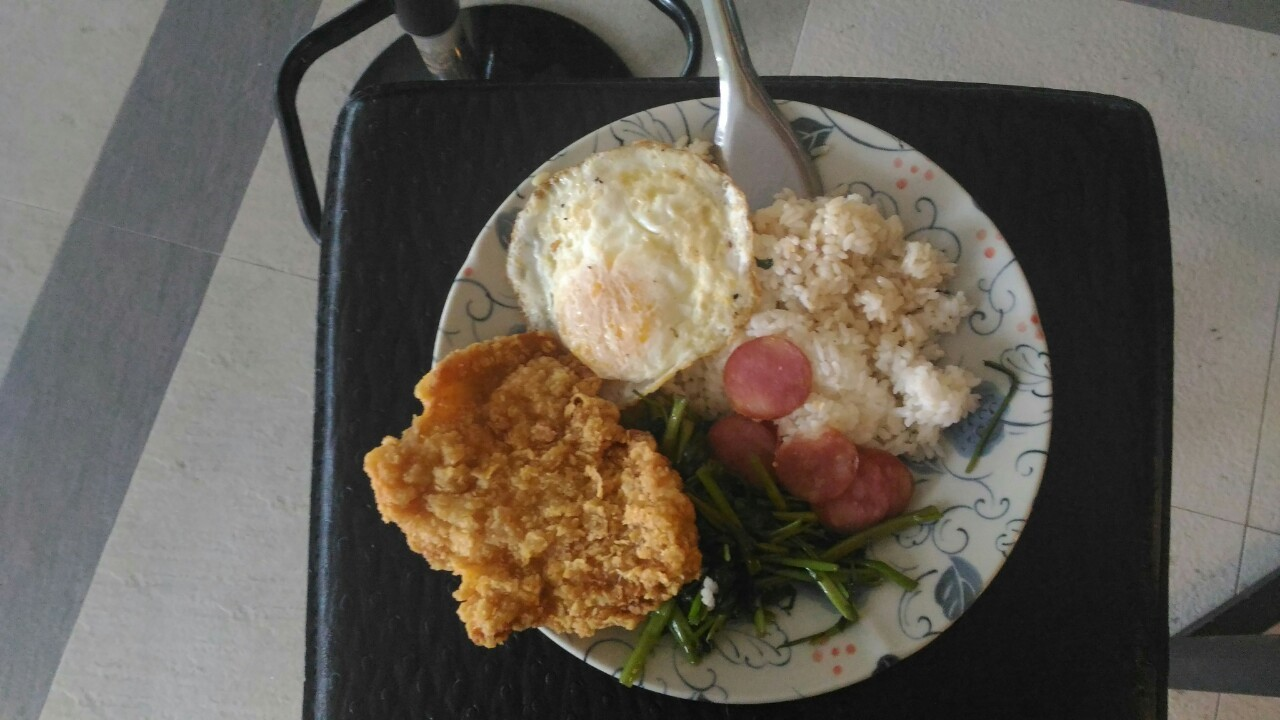chinese_sausage: (726, 343, 918, 520)
fried_chicken: (360, 327, 688, 653)
fried_eggs: (506, 144, 759, 386)
rice: (760, 198, 958, 415)
water_spinach: (700, 508, 904, 608)
